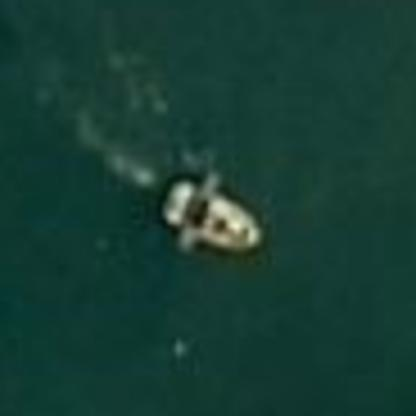ship: (141, 162, 283, 276)
